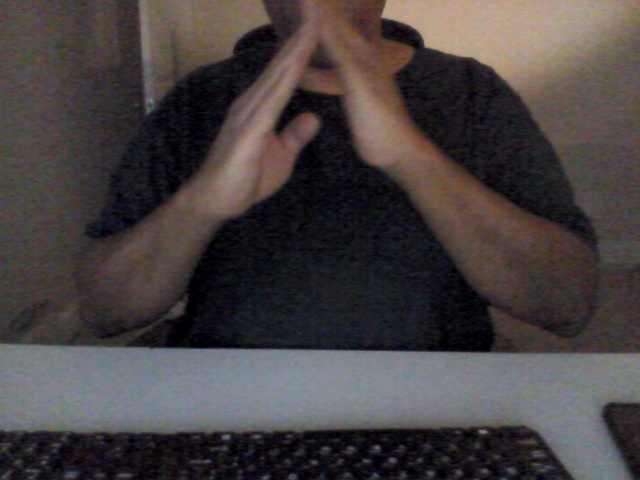quiet: (208, 7, 414, 233)
